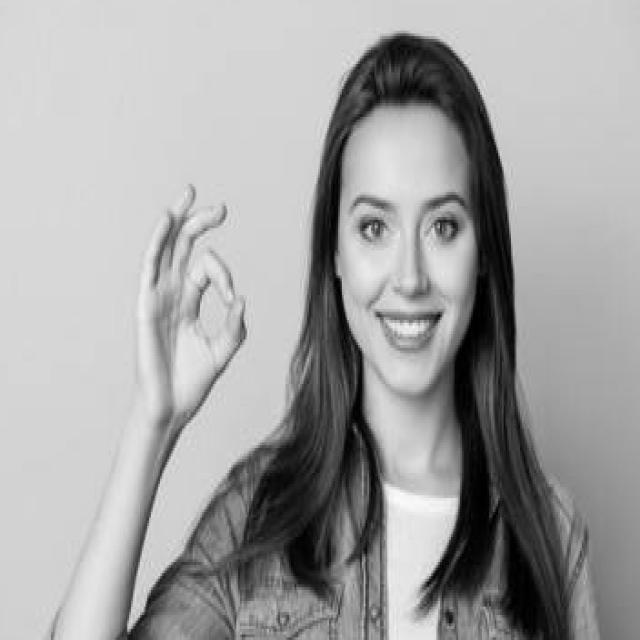perfect: (129, 174, 252, 446)
